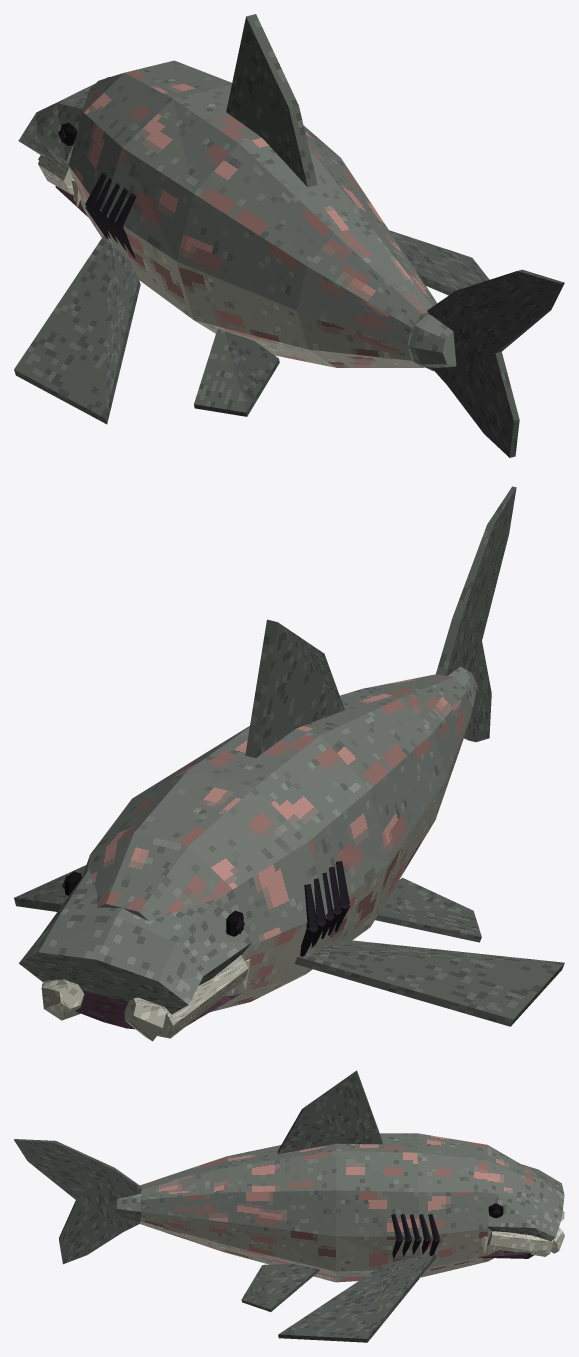
The model's file is mon_zhark.glb.
3 views of the same model, one above another, from view 1: azimuth 30°, elevation 25°; view 2: azimuth 150°, elevation 25°; view 3: azimuth 270°, elevation 25° (orthographic). The views are drawn at different scales.
Visible parts, largest first — view 1: closed_body; view 2: closed_body; view 3: closed_body.
Boxes of the visible parts, x1,y1,x2,y2 form: closed_body: [14, 14, 564, 457]; closed_body: [14, 486, 564, 1041]; closed_body: [14, 1070, 564, 1342].
Bounding box in the file's own units: 1.12 × 0.7355 × 1.82.
Materials: 1 (1 with a texture image).
